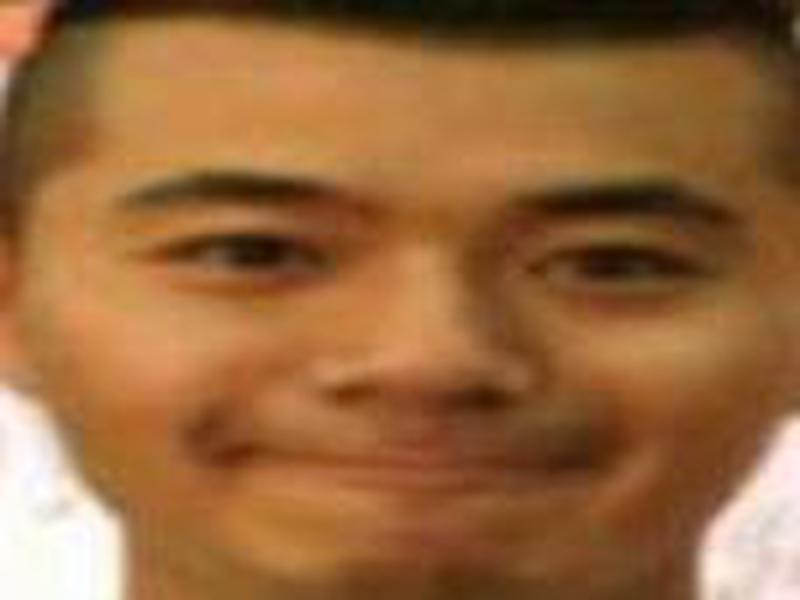without_mask: (32, 46, 790, 600)
